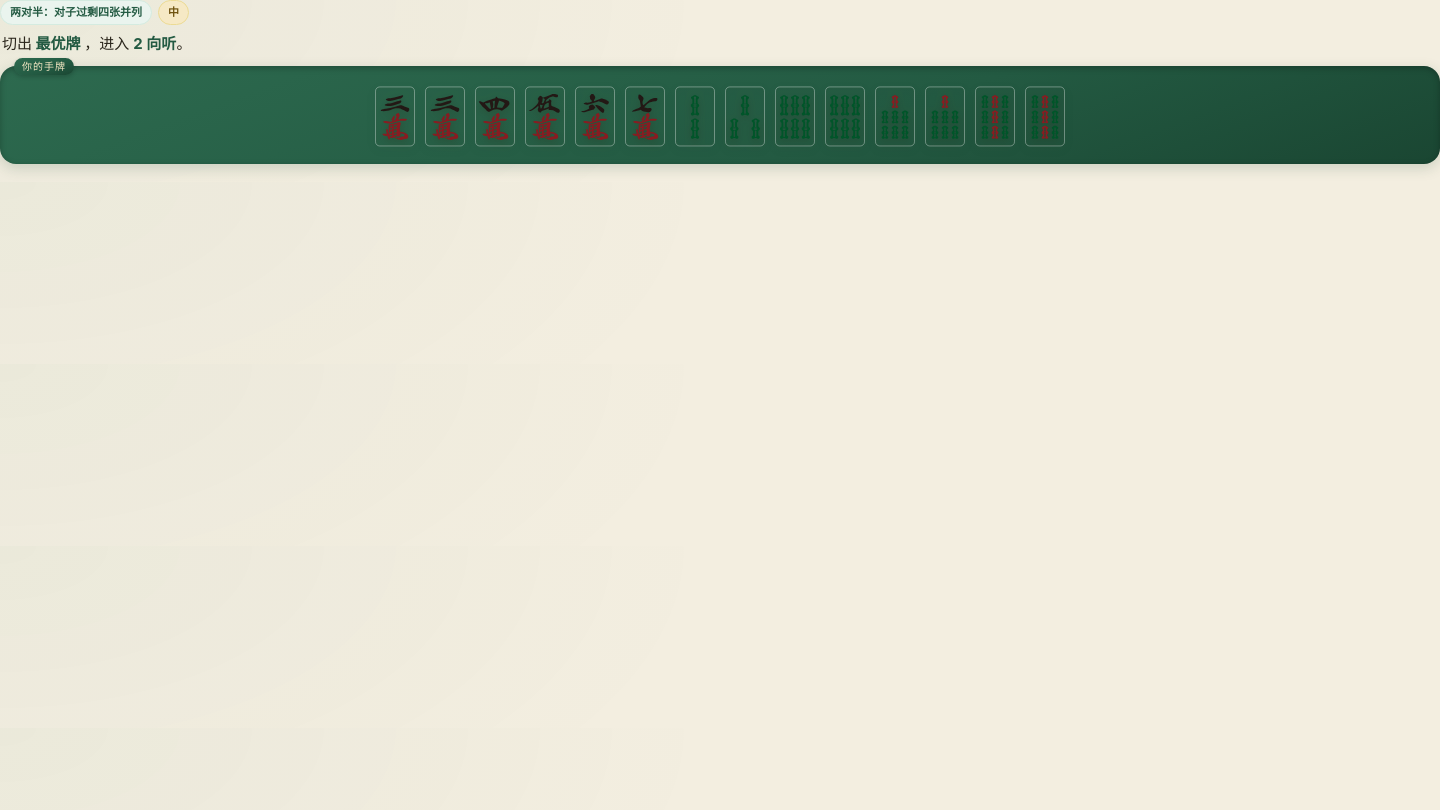
Test case: QuestionCard 讲解抽屉（用户 bug 回归） › 选牌判分后出现「查看讲解」，点击弹出讲解抽屉且内容完整
Click the 1st button with class "tile" at (395, 116), box [373,84,417,150]
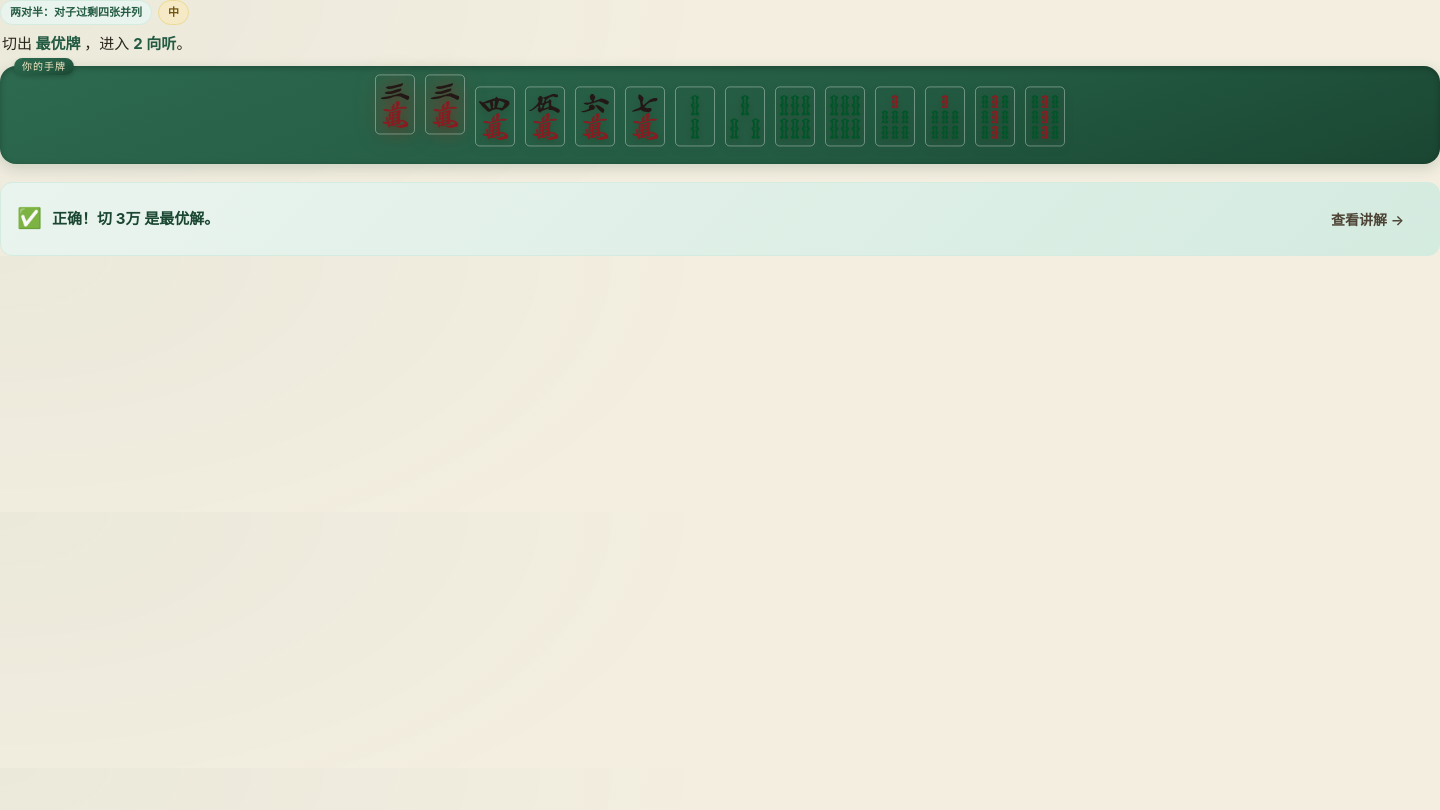
Expected: the element showing "✅ 正确！切 3万 是最优解。 查看讲解 →" is shown, [0,182,1439,256]
Click the button "查看讲解 →" at (1368, 218), box [1312,196,1423,240]
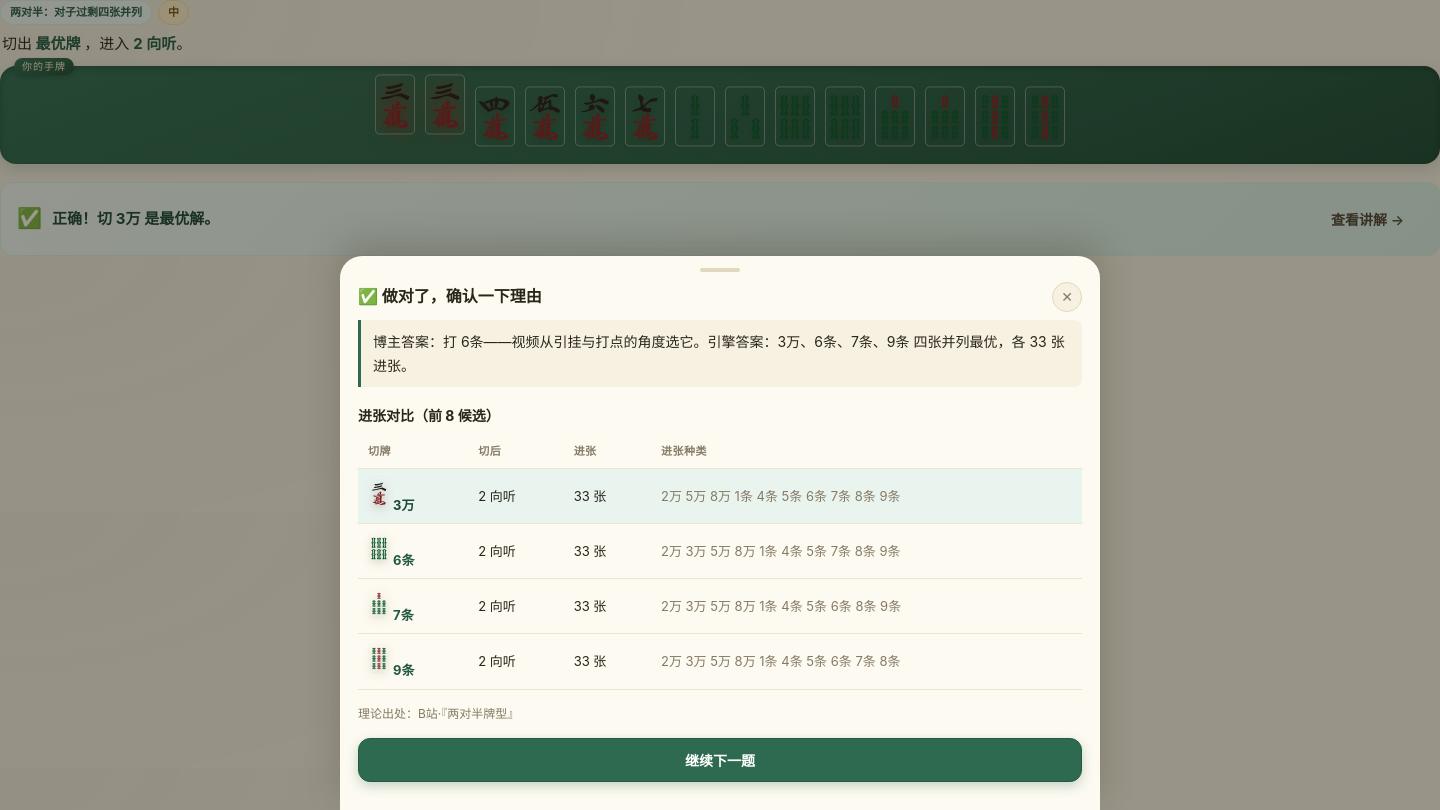
Expected: the dialog with class "drawer" is shown, [340,256,1100,809]
Expected: the dialog with class "drawer" shows "博主答案", [373,333,1065,374]
Expected: the dialog with class "drawer" shows "引擎答案", [373,333,1065,374]
